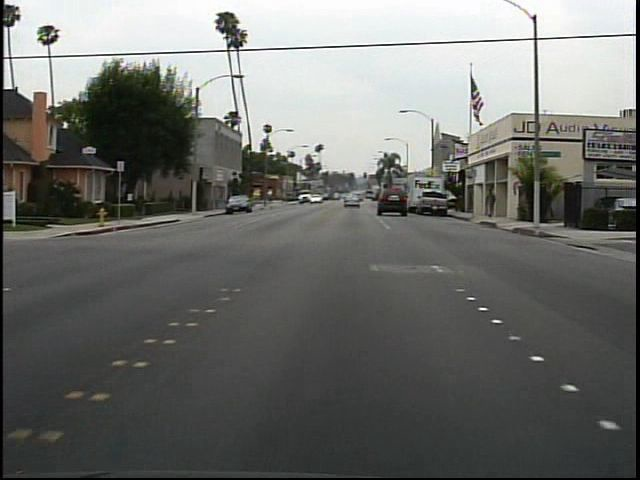person: (481, 186, 501, 221)
